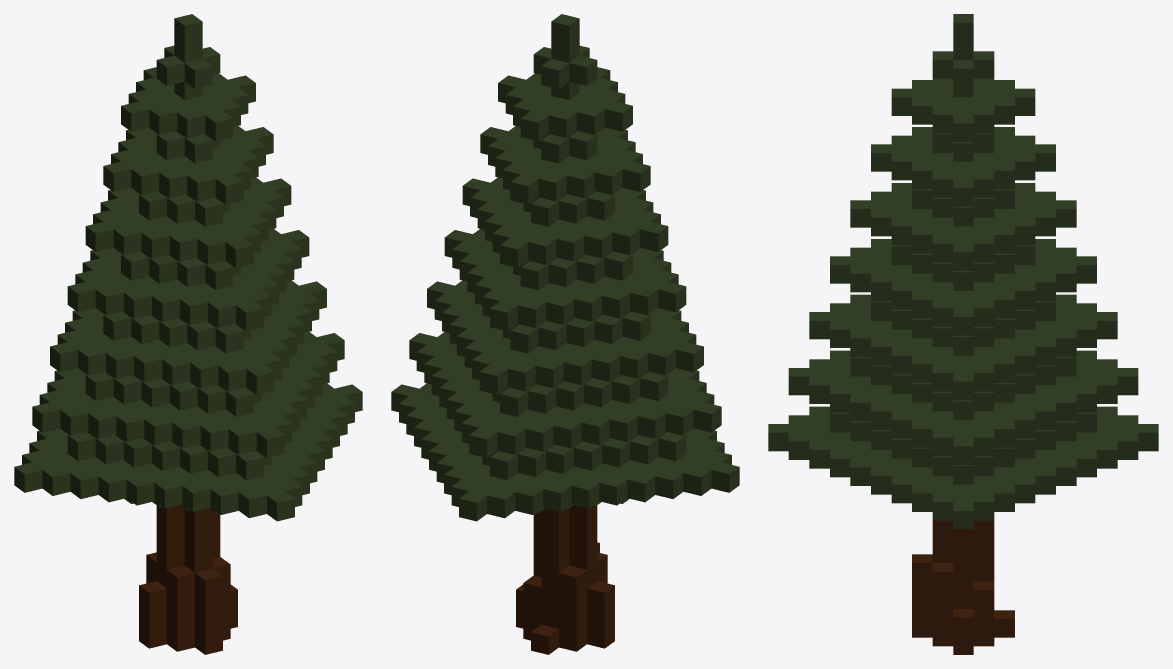
Rendered from Evergreen.fbx.
3 renders of one model, left to right at view 1: azimuth 30°, elevation 25°; view 2: azimuth 150°, elevation 25°; view 3: azimuth 270°, elevation 25°, orthographic.
Parts seen in each view (by area): view 1: Cube.001; view 2: Cube.001; view 3: Cube.001.
Part boxes in pixels (x1=…): Cube.001: x1=14, y1=14, x2=362, y2=654; Cube.001: x1=391, y1=14, x2=739, y2=654; Cube.001: x1=768, y1=14, x2=1158, y2=654.
Size of the model in its own units: 950 by 950 by 1650.
